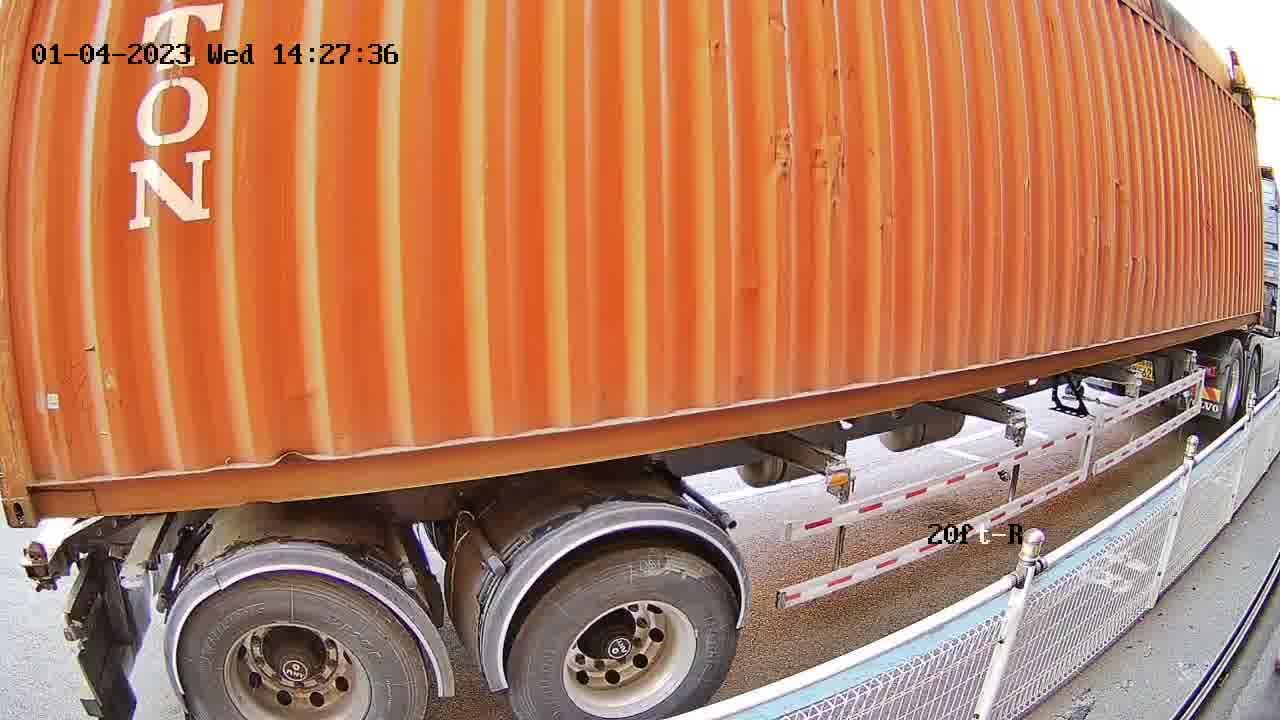Cone: (17, 539, 59, 597)
Hole_L: (0, 452, 67, 527)
Tire: (509, 547, 742, 719), (176, 574, 427, 716)
